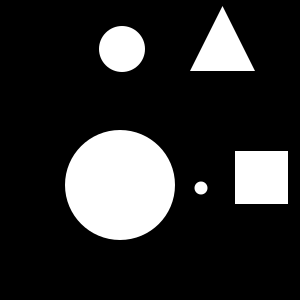circle: (235, 151, 288, 204)
rectangle: (65, 130, 175, 240), (99, 26, 145, 72), (195, 182, 208, 195)
triangle: (190, 6, 255, 71)
